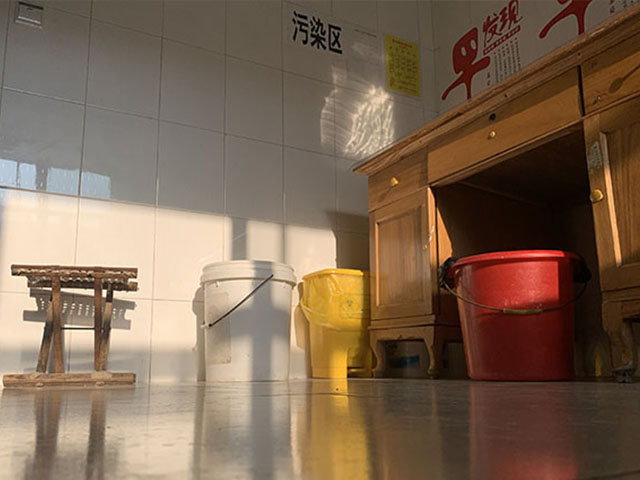cabinet: (352, 118, 446, 384)
stool: (2, 263, 141, 386)
trashcan: (444, 245, 586, 382)
